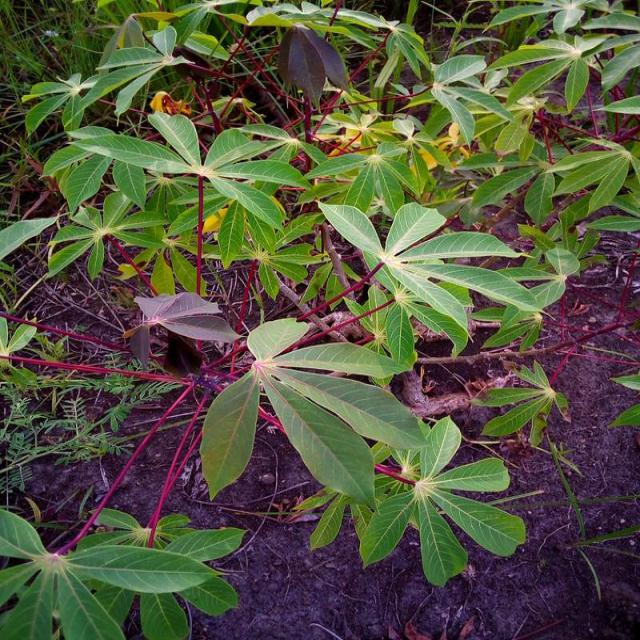cassava leaf: (358, 413, 526, 588), (198, 366, 260, 501)
